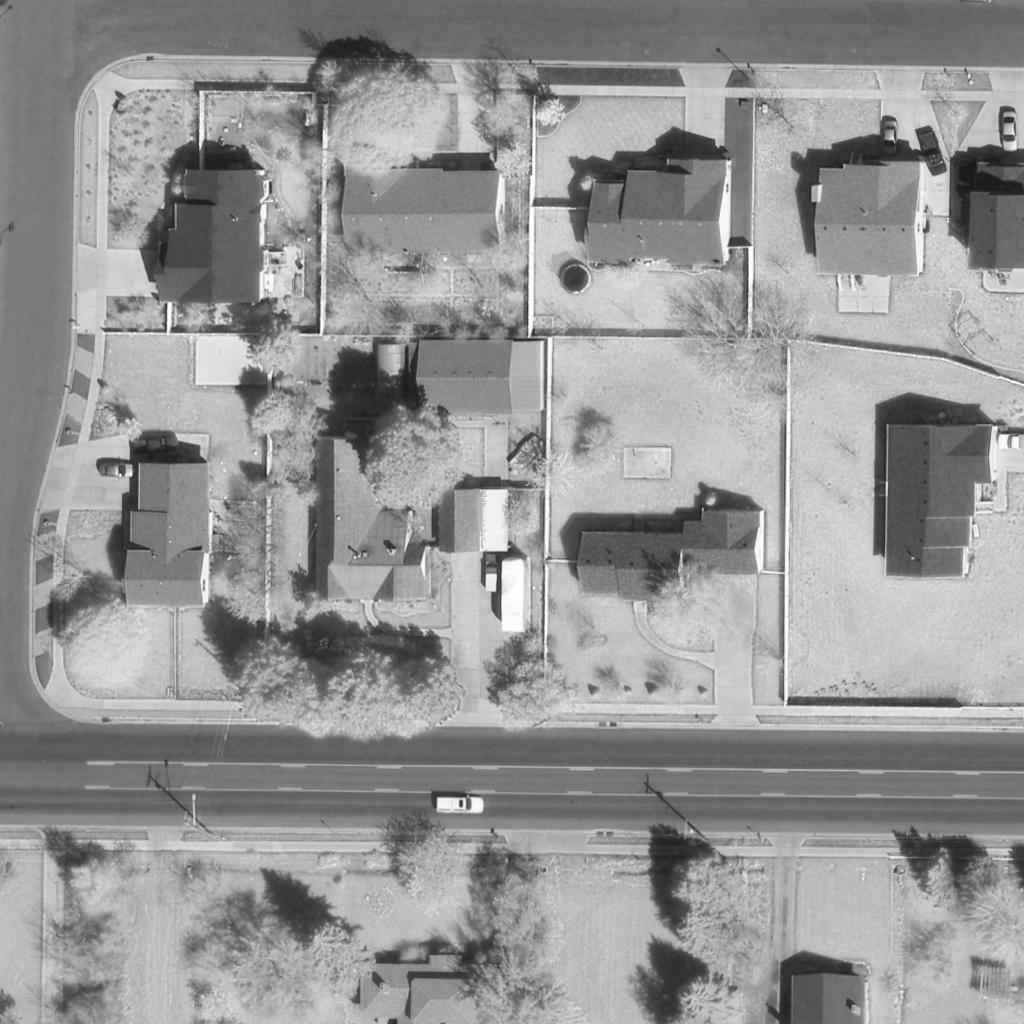vehicle: (500, 556, 528, 634), (917, 128, 949, 176), (434, 793, 486, 815), (129, 434, 179, 456), (97, 460, 139, 478), (1000, 110, 1018, 152), (881, 119, 899, 157), (484, 553, 500, 593), (995, 433, 1024, 451)
